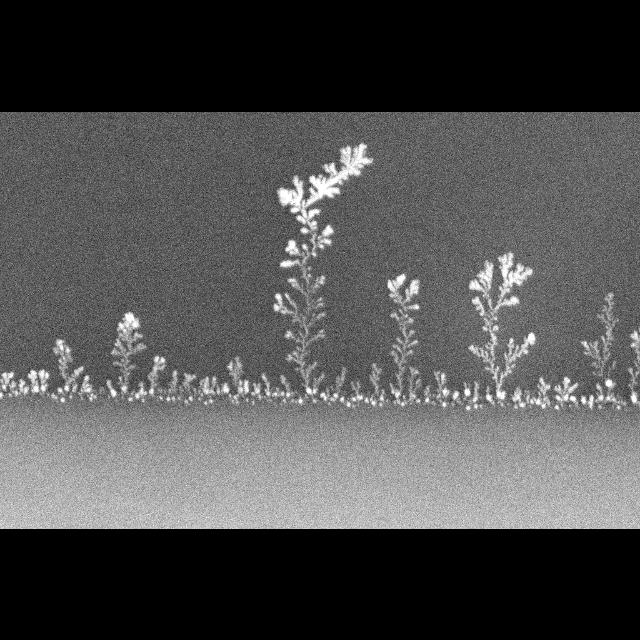dendrites: (274, 143, 373, 395), (469, 251, 537, 404), (582, 292, 626, 408), (386, 273, 421, 403), (112, 312, 145, 391), (52, 338, 83, 401), (228, 356, 249, 402), (628, 328, 640, 401), (425, 371, 450, 406), (321, 367, 345, 400), (402, 365, 421, 405), (451, 381, 479, 408), (554, 376, 578, 405), (148, 355, 166, 393), (0, 372, 29, 395), (530, 376, 551, 406), (198, 376, 229, 395), (79, 375, 103, 399), (28, 368, 48, 392), (369, 363, 381, 396), (280, 375, 294, 397), (512, 387, 527, 407), (262, 374, 276, 394), (351, 381, 363, 400), (183, 371, 195, 388), (106, 379, 117, 396), (170, 369, 178, 392), (135, 383, 147, 398), (251, 381, 261, 399), (273, 387, 285, 396), (380, 389, 386, 401), (524, 390, 530, 402), (291, 396, 303, 402), (588, 394, 593, 408), (581, 395, 587, 403), (51, 393, 60, 398), (555, 404, 560, 408), (606, 298, 608, 299)
